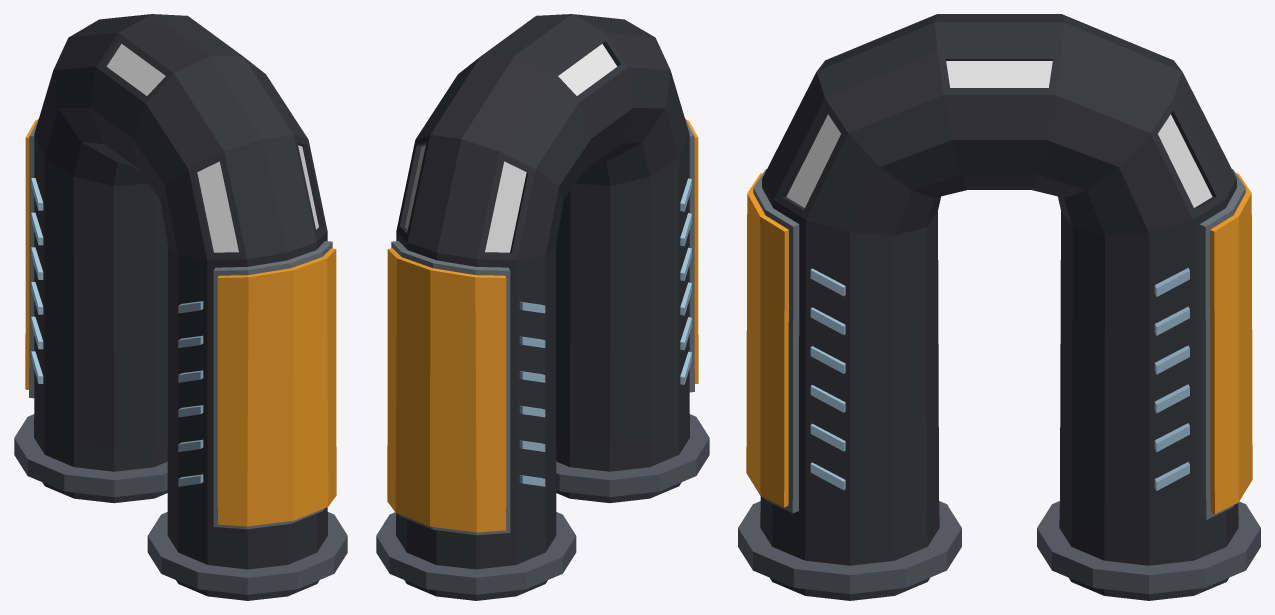
File: SM_Arc_water_pipe.glb
3 views of the same model, side by side, from view 1: azimuth 30°, elevation 25°; view 2: azimuth 150°, elevation 25°; view 3: azimuth 270°, elevation 25° (orthographic). The views are drawn at different scales.
Parts seen in each view (by area): view 1: SM_Arc_water_pipe; view 2: SM_Arc_water_pipe; view 3: SM_Arc_water_pipe.
Boxes of the visible parts, x1,y1,x2,y2 form: SM_Arc_water_pipe: [14, 14, 347, 600]; SM_Arc_water_pipe: [376, 14, 709, 600]; SM_Arc_water_pipe: [738, 14, 1260, 600].
Size of the model in its own units: 0.7487 by 2 by 1.75.
Materials: 2 (1 with a texture image).
